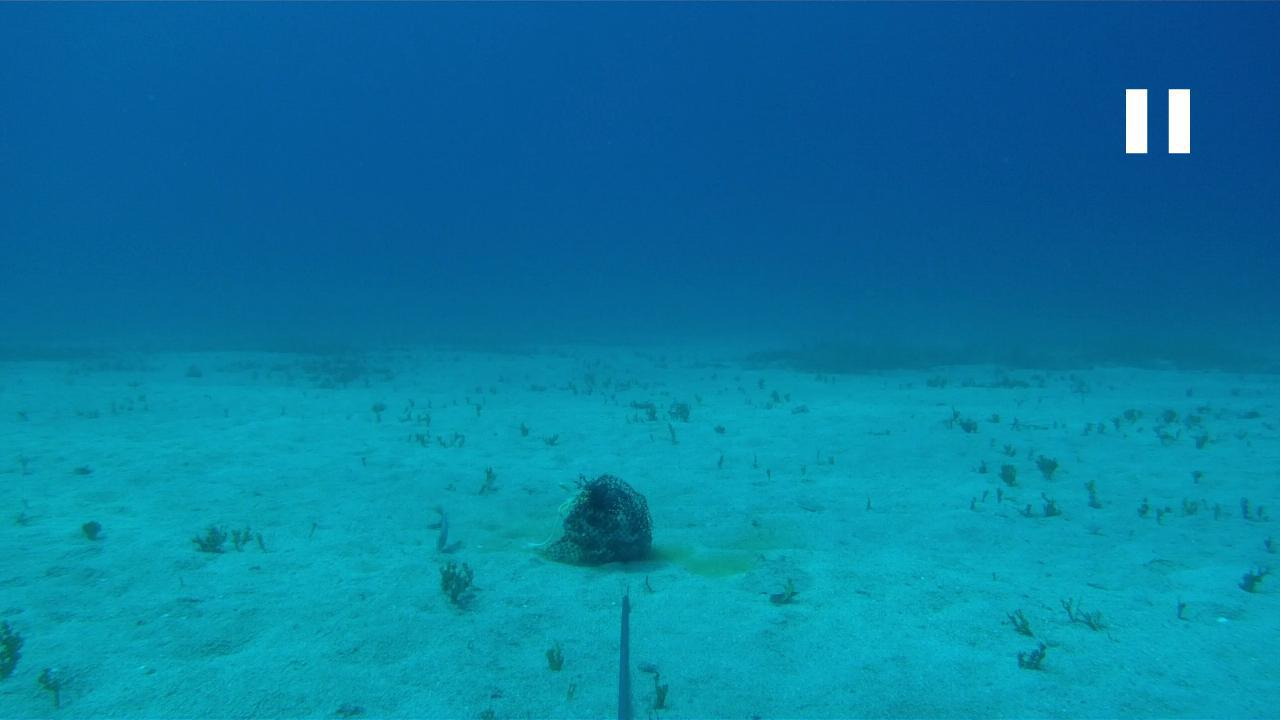bothus: (733, 549, 817, 600)
